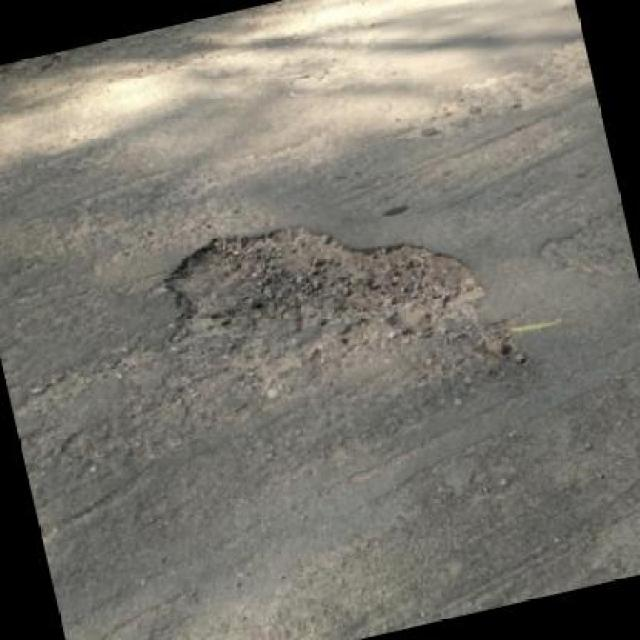pothole: (150, 176, 496, 390)
